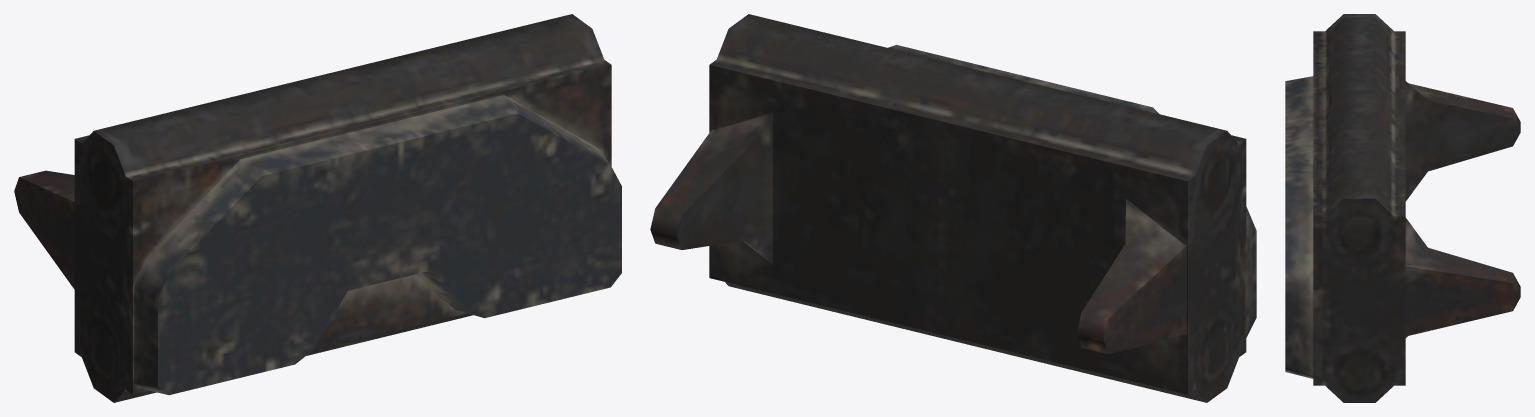
3 renders of one model, left to right at view 1: azimuth 30°, elevation 25°; view 2: azimuth 150°, elevation 25°; view 3: azimuth 270°, elevation 25°, orthographic. The views are drawn at different scales.
Visible parts, largest first — view 1: set_0_group_0; view 2: set_0_group_0; view 3: set_0_group_0.
Boxes of the visible parts, bbox=[...] form: set_0_group_0: bbox=[14, 14, 621, 402]; set_0_group_0: bbox=[650, 14, 1256, 402]; set_0_group_0: bbox=[1285, 14, 1520, 402].
Size of the model in its own units: 0.2913 by 0.1498 by 0.1568.
Materials: 1 (1 with a texture image).
